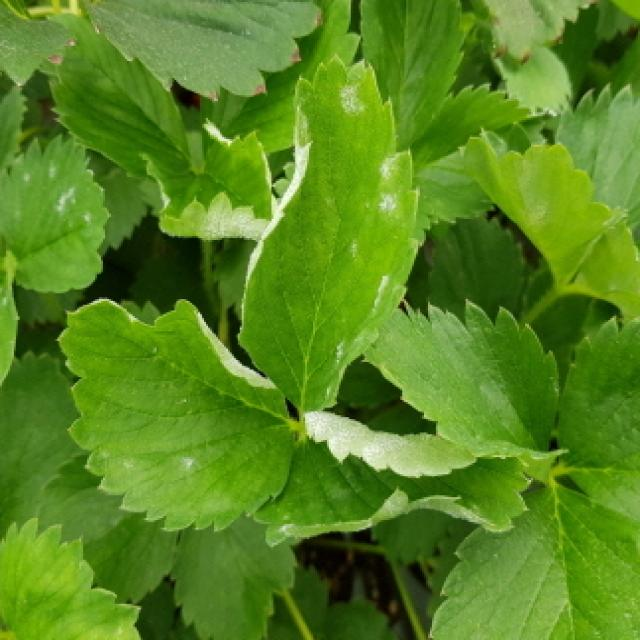Powdery Mildew Leaf: (236, 53, 421, 413), (55, 298, 302, 533), (251, 410, 532, 548), (459, 122, 619, 290), (0, 132, 114, 295), (136, 114, 278, 242)
